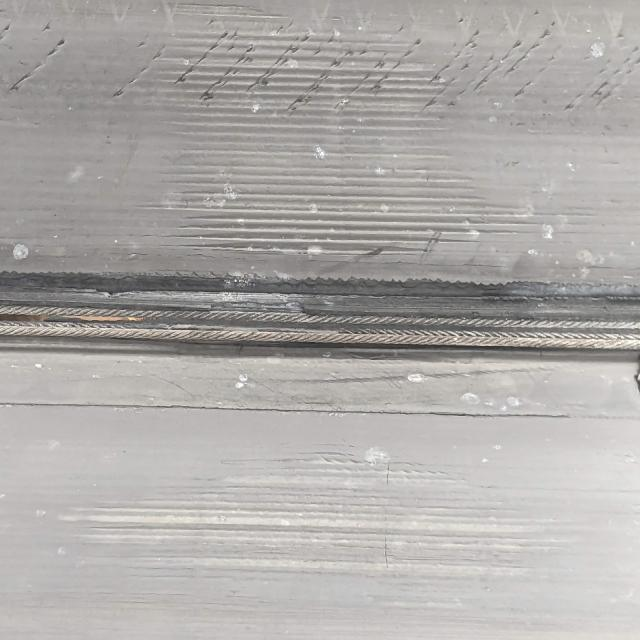Tear: (0, 266, 640, 372), (0, 390, 576, 426)
Wear: (136, 0, 521, 269)
